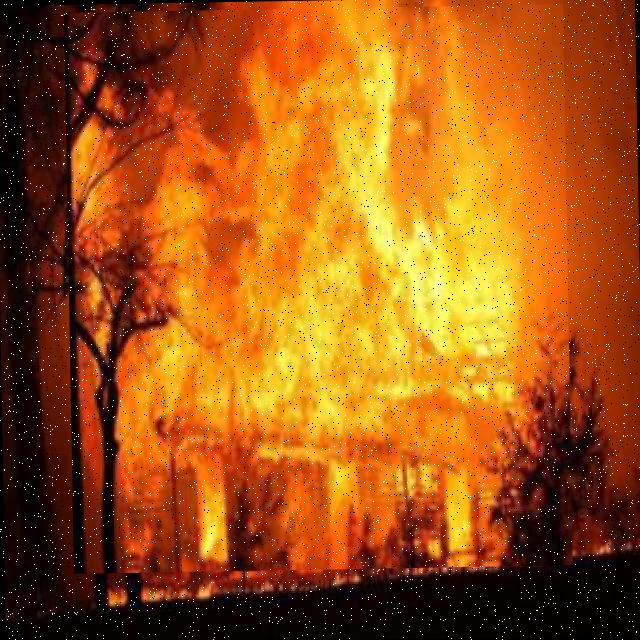fire: (64, 4, 572, 574)
